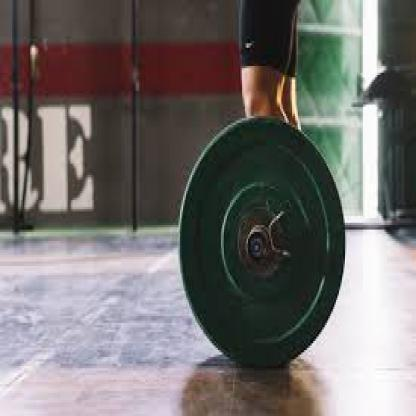barbell: (176, 114, 347, 370)
